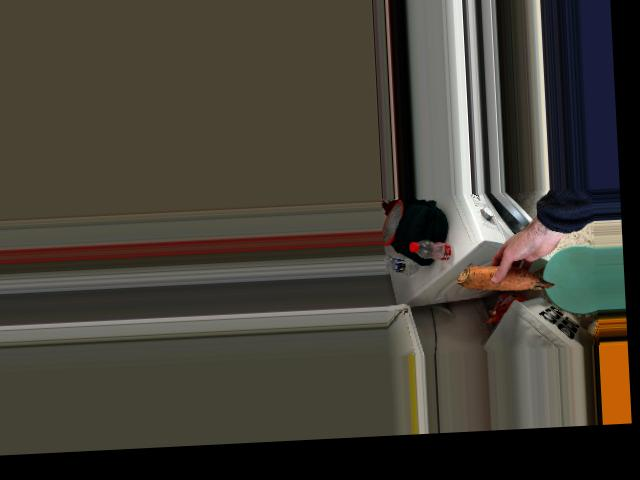sweet_potato: (454, 259, 552, 294)
